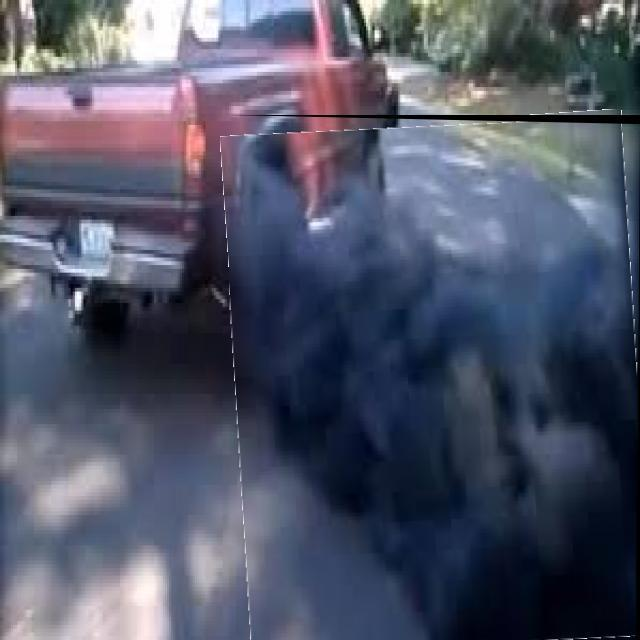smoke: (263, 372, 633, 638), (232, 162, 617, 358)
